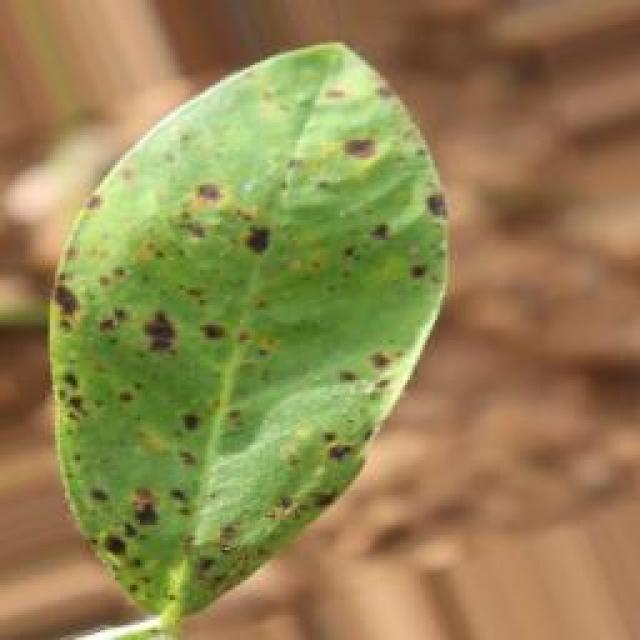Yellowish: (59, 38, 438, 630)
